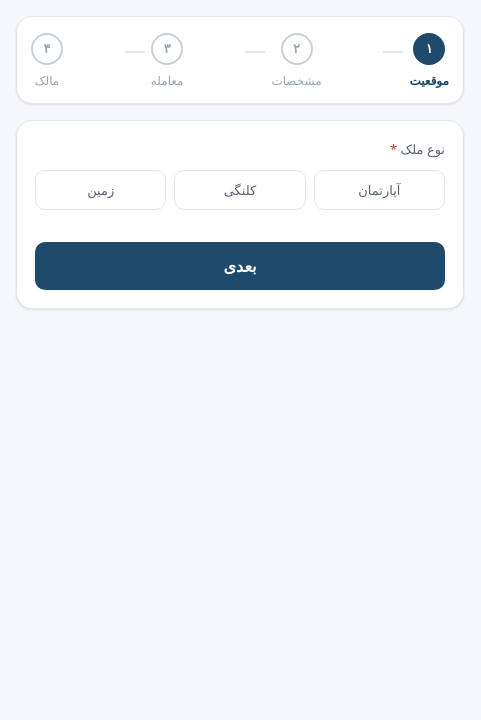
Test case: AddFileScreen wizard › region picker opens on focus and shows add button
Click the button "آپارتمان" at x=379, y=190, box [314,170,445,210]
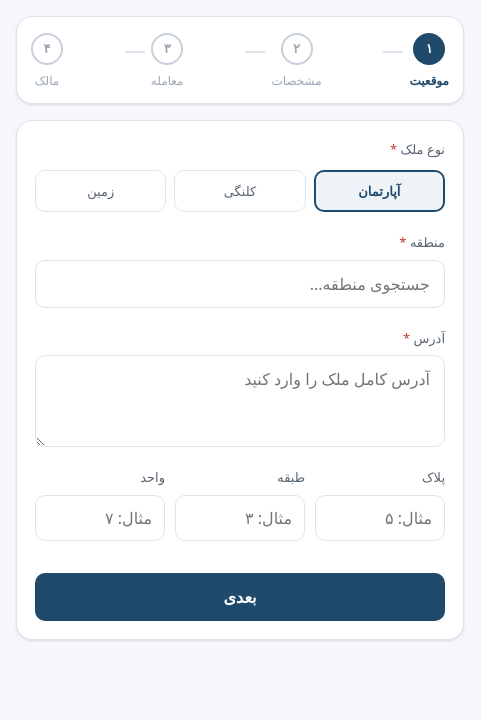
Focus the field with placeholder "جستجوی منطقه..." at x=240, y=284, box [36,261,444,307]
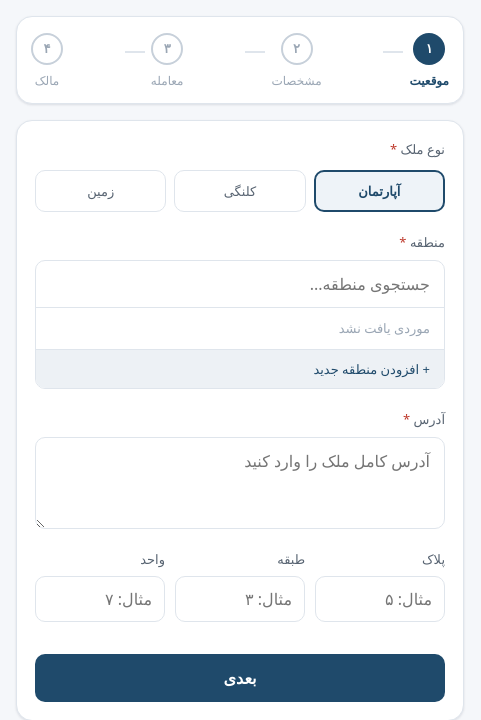
Result: the button "+ افزودن منطقه جدید" is shown at [36,349,444,388]
